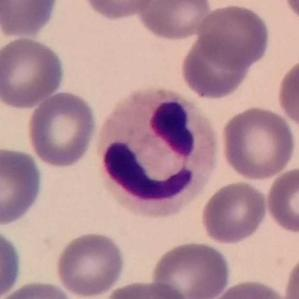Neutrophil: (92, 83, 224, 217)
RBC: (218, 104, 297, 182), (24, 89, 99, 169), (195, 2, 272, 69), (178, 32, 252, 101), (148, 239, 233, 299), (0, 34, 67, 110), (53, 230, 127, 298), (199, 179, 270, 246), (0, 144, 45, 228), (135, 0, 213, 42), (264, 165, 299, 236), (0, 0, 62, 39), (204, 277, 291, 299), (275, 56, 299, 134), (102, 278, 191, 299), (0, 225, 24, 299), (79, 0, 159, 21), (0, 278, 76, 299), (281, 250, 299, 299), (280, 0, 298, 24)
